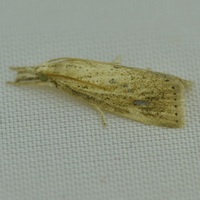insect: (7, 57, 192, 127)
